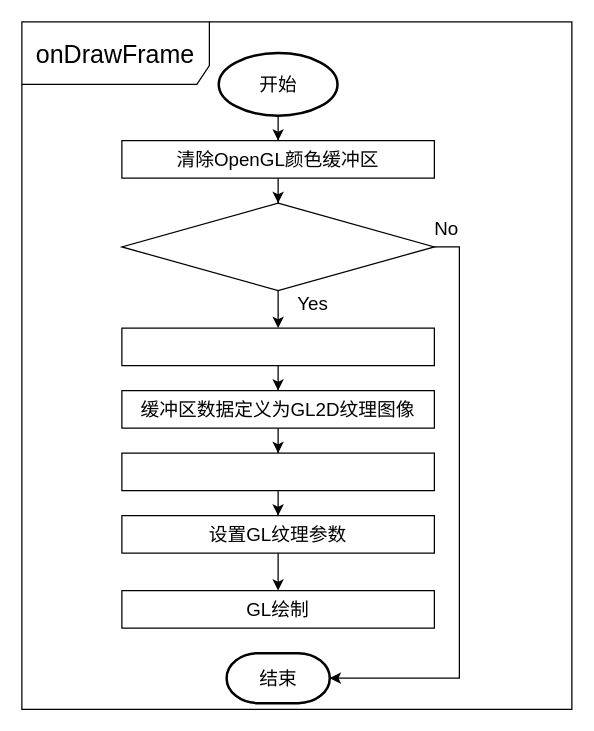
This 594x731 diagram has some shape labels left out. Here are the shapes that lost their labels. From the top down, the box of each, then its label:
(121, 202, 434, 291): rfbClient的缓冲区数据存在
(121, 327, 434, 366): 锁住缓冲区
(121, 452, 434, 491): 解锁缓冲区
